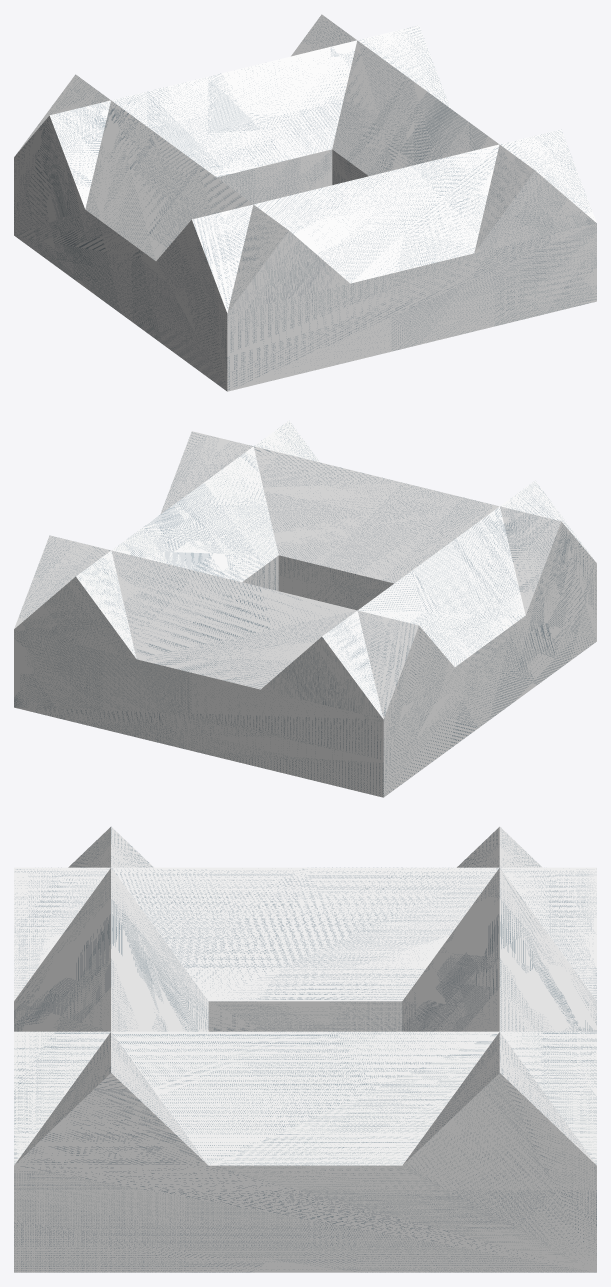
The model's file is stadt_haus_04.dae.
3 renders of one model, top to bottom at view 1: azimuth 30°, elevation 25°; view 2: azimuth 150°, elevation 25°; view 3: azimuth 270°, elevation 25°, orthographic. The views are drawn at different scales.
Visible parts, largest first — view 1: SketchUp; view 2: SketchUp; view 3: SketchUp.
Part boxes in pixels (x1,y1,x2,y2): SketchUp: [14, 14, 596, 391]; SketchUp: [14, 420, 596, 797]; SketchUp: [14, 826, 596, 1272].
Bounding box in the file's own units: 591 × 591 × 223.
